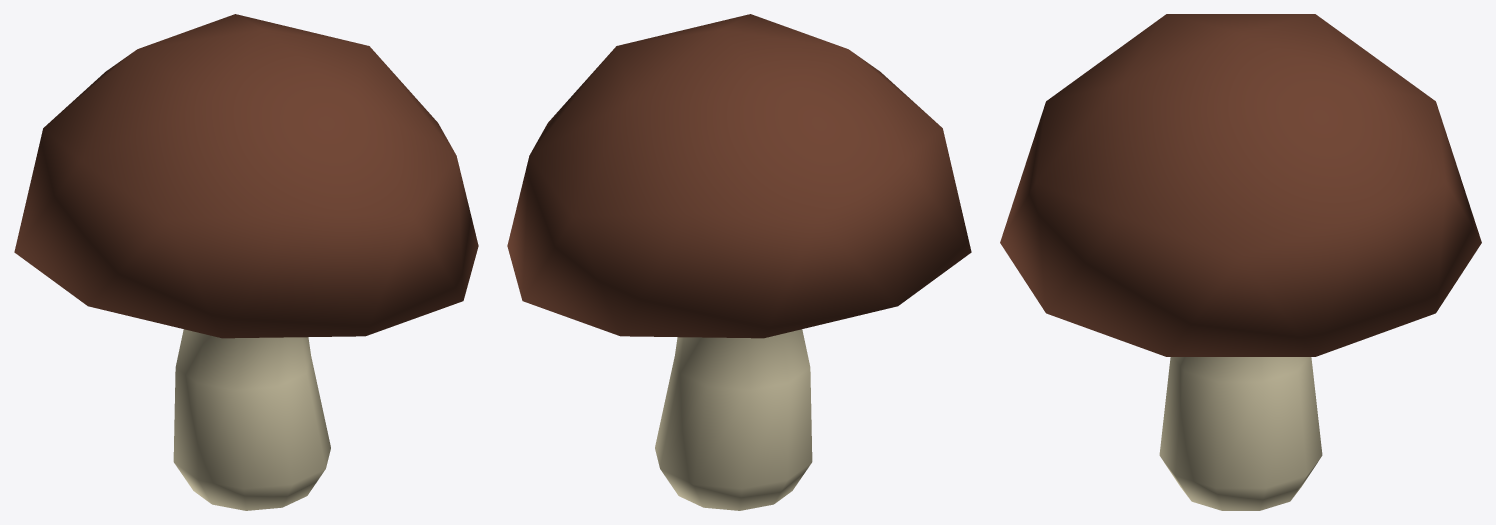
Rendered from mushroomBrownBig.glb.
3 renders of one model, left to right at view 1: azimuth 30°, elevation 25°; view 2: azimuth 150°, elevation 25°; view 3: azimuth 270°, elevation 25°, orthographic.
Visible parts, largest first — view 1: MushroomBrownBig; view 2: MushroomBrownBig; view 3: MushroomBrownBig.
Part boxes in pixels (x1,y1,x2,y2): MushroomBrownBig: (14, 14, 478, 510); MushroomBrownBig: (507, 14, 971, 510); MushroomBrownBig: (1000, 14, 1481, 510).
Size of the model in its own units: 0.5001 by 0.5539 by 0.5278.
Materials: 2 (1 with a texture image).
